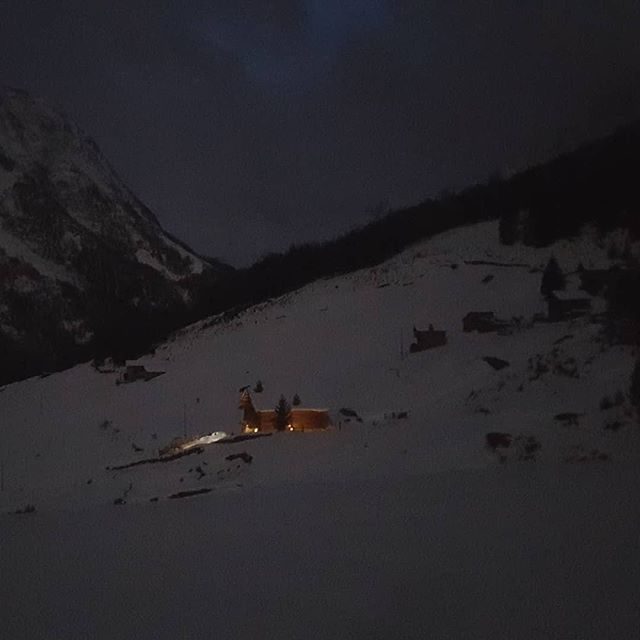building: (238, 398, 341, 440)
mountain: (1, 62, 199, 285)
sky: (18, 6, 631, 203)
